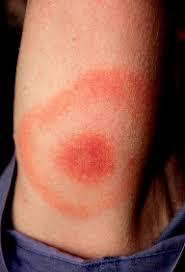Tick: (54, 131, 114, 184)
